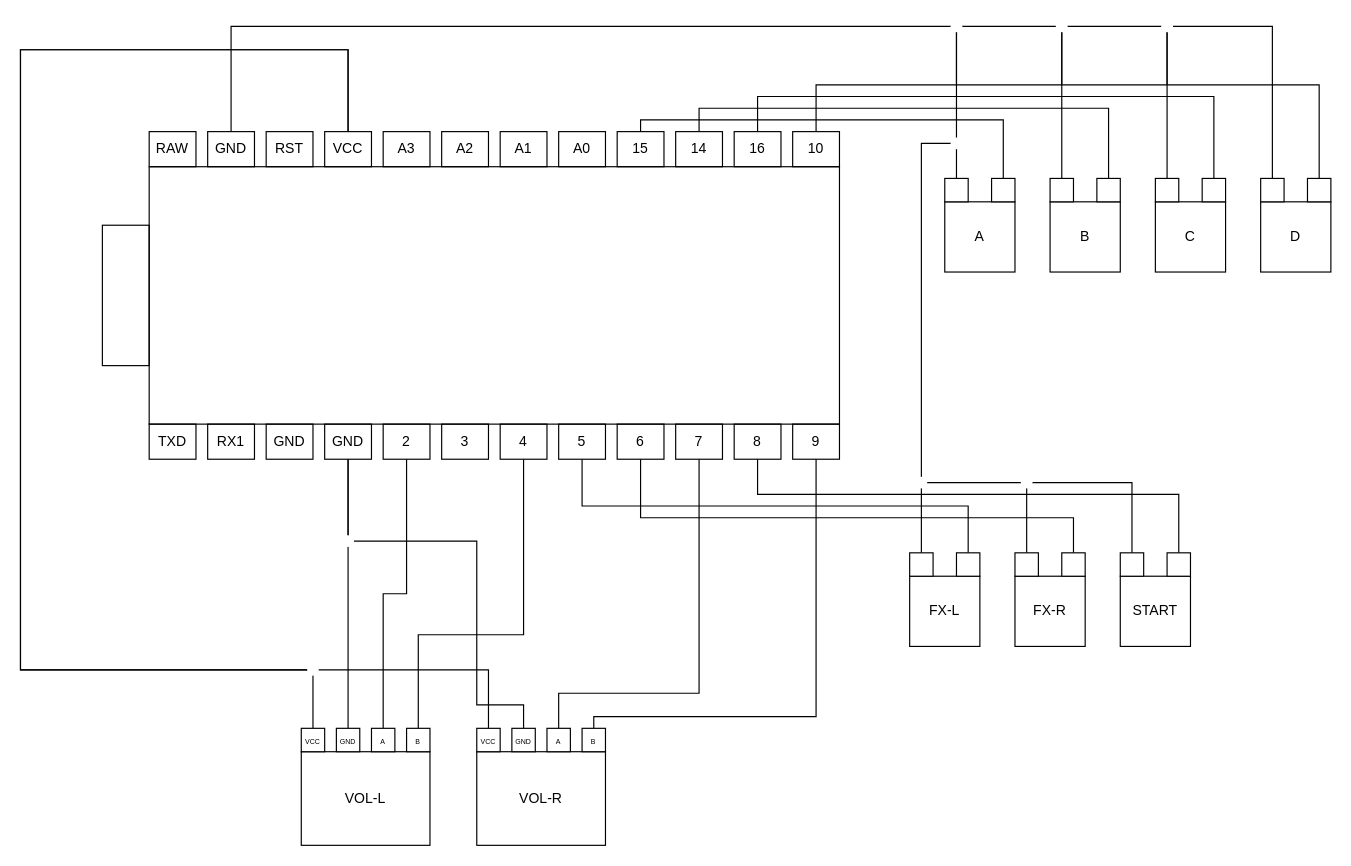
Image size: 1351x866. Some labels were removed from this diagram. Each missing label, with the box of its shape:
Arduino Pro Micro: (148, 166, 839, 424)
USB-C Port: (101, 224, 149, 366)
